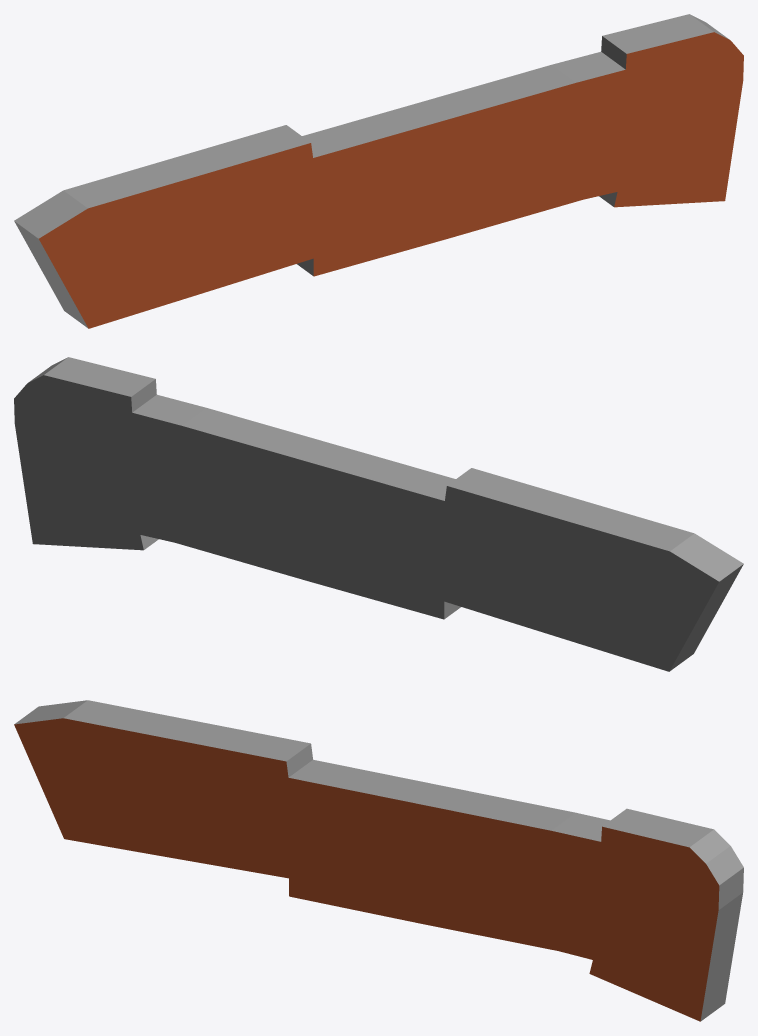
Rendered from construction_6557_assumed_A_Casa_h6m.obj.
3 renders of one model, top to bottom at view 1: azimuth 30°, elevation 25°; view 2: azimuth 150°, elevation 25°; view 3: azimuth 330°, elevation 25°, orthographic.
Parts seen in each view (by area): view 1: construction_6557_assumed_A_Casa; view 2: construction_6557_assumed_A_Casa; view 3: construction_6557_assumed_A_Casa.
Part boxes in pixels (left/top/right/bottom): construction_6557_assumed_A_Casa: left=14, top=14, right=743, bottom=328; construction_6557_assumed_A_Casa: left=14, top=357, right=743, bottom=671; construction_6557_assumed_A_Casa: left=14, top=700, right=743, bottom=1021.
Size of the model in its own units: 99.08 by 23.05 by 6.
